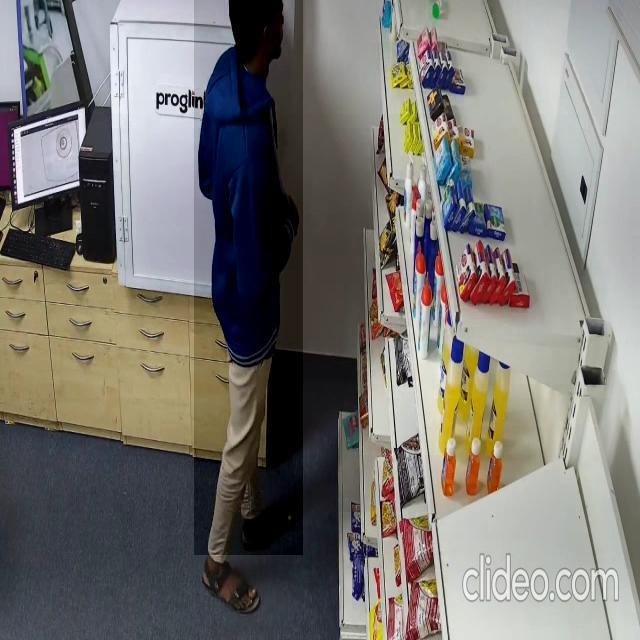Shoplifting: (194, 0, 303, 555)
